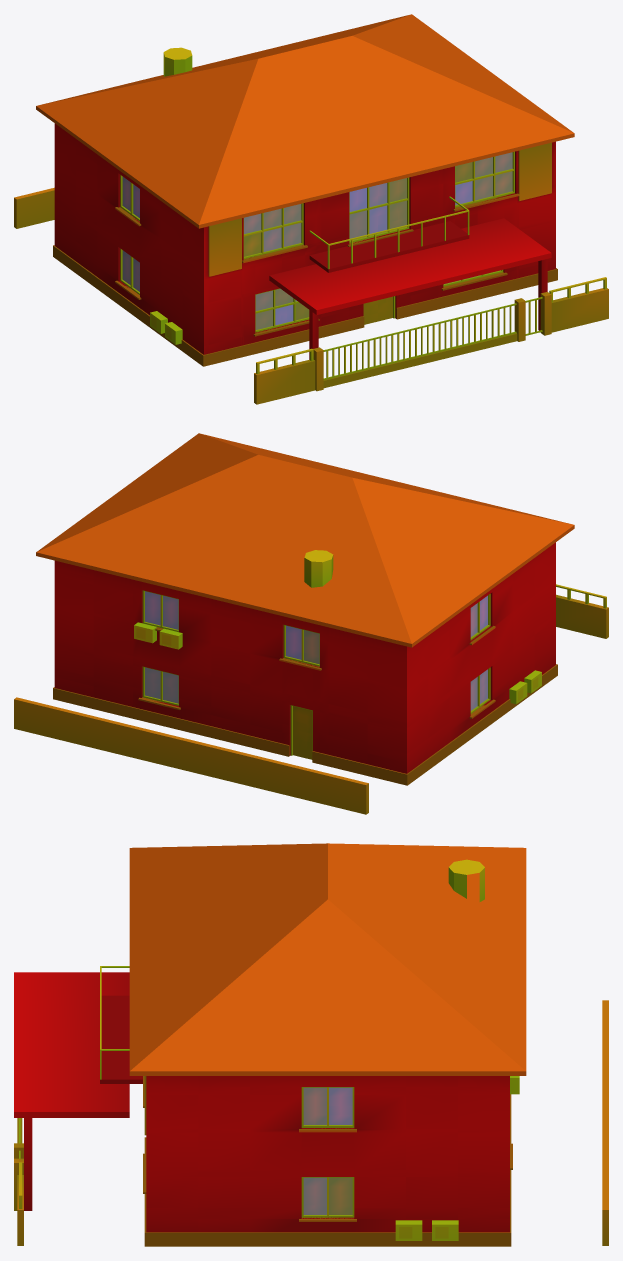
The model's file is bungalow.glb.
3 views of the same model, one above another, from view 1: azimuth 30°, elevation 25°; view 2: azimuth 150°, elevation 25°; view 3: azimuth 270°, elevation 25° (orthographic). The views are drawn at different scales.
Parts seen in each view (by area): view 1: bungalow__hip__LOD0; view 2: bungalow__hip__LOD0; view 3: bungalow__hip__LOD0.
Boxes of the visible parts, x1,y1,x2,y2 form: bungalow__hip__LOD0: [14, 14, 608, 404]; bungalow__hip__LOD0: [14, 433, 608, 814]; bungalow__hip__LOD0: [14, 843, 608, 1246].
Size of what is drawn, in the model's own units: 16 by 9 by 18.
